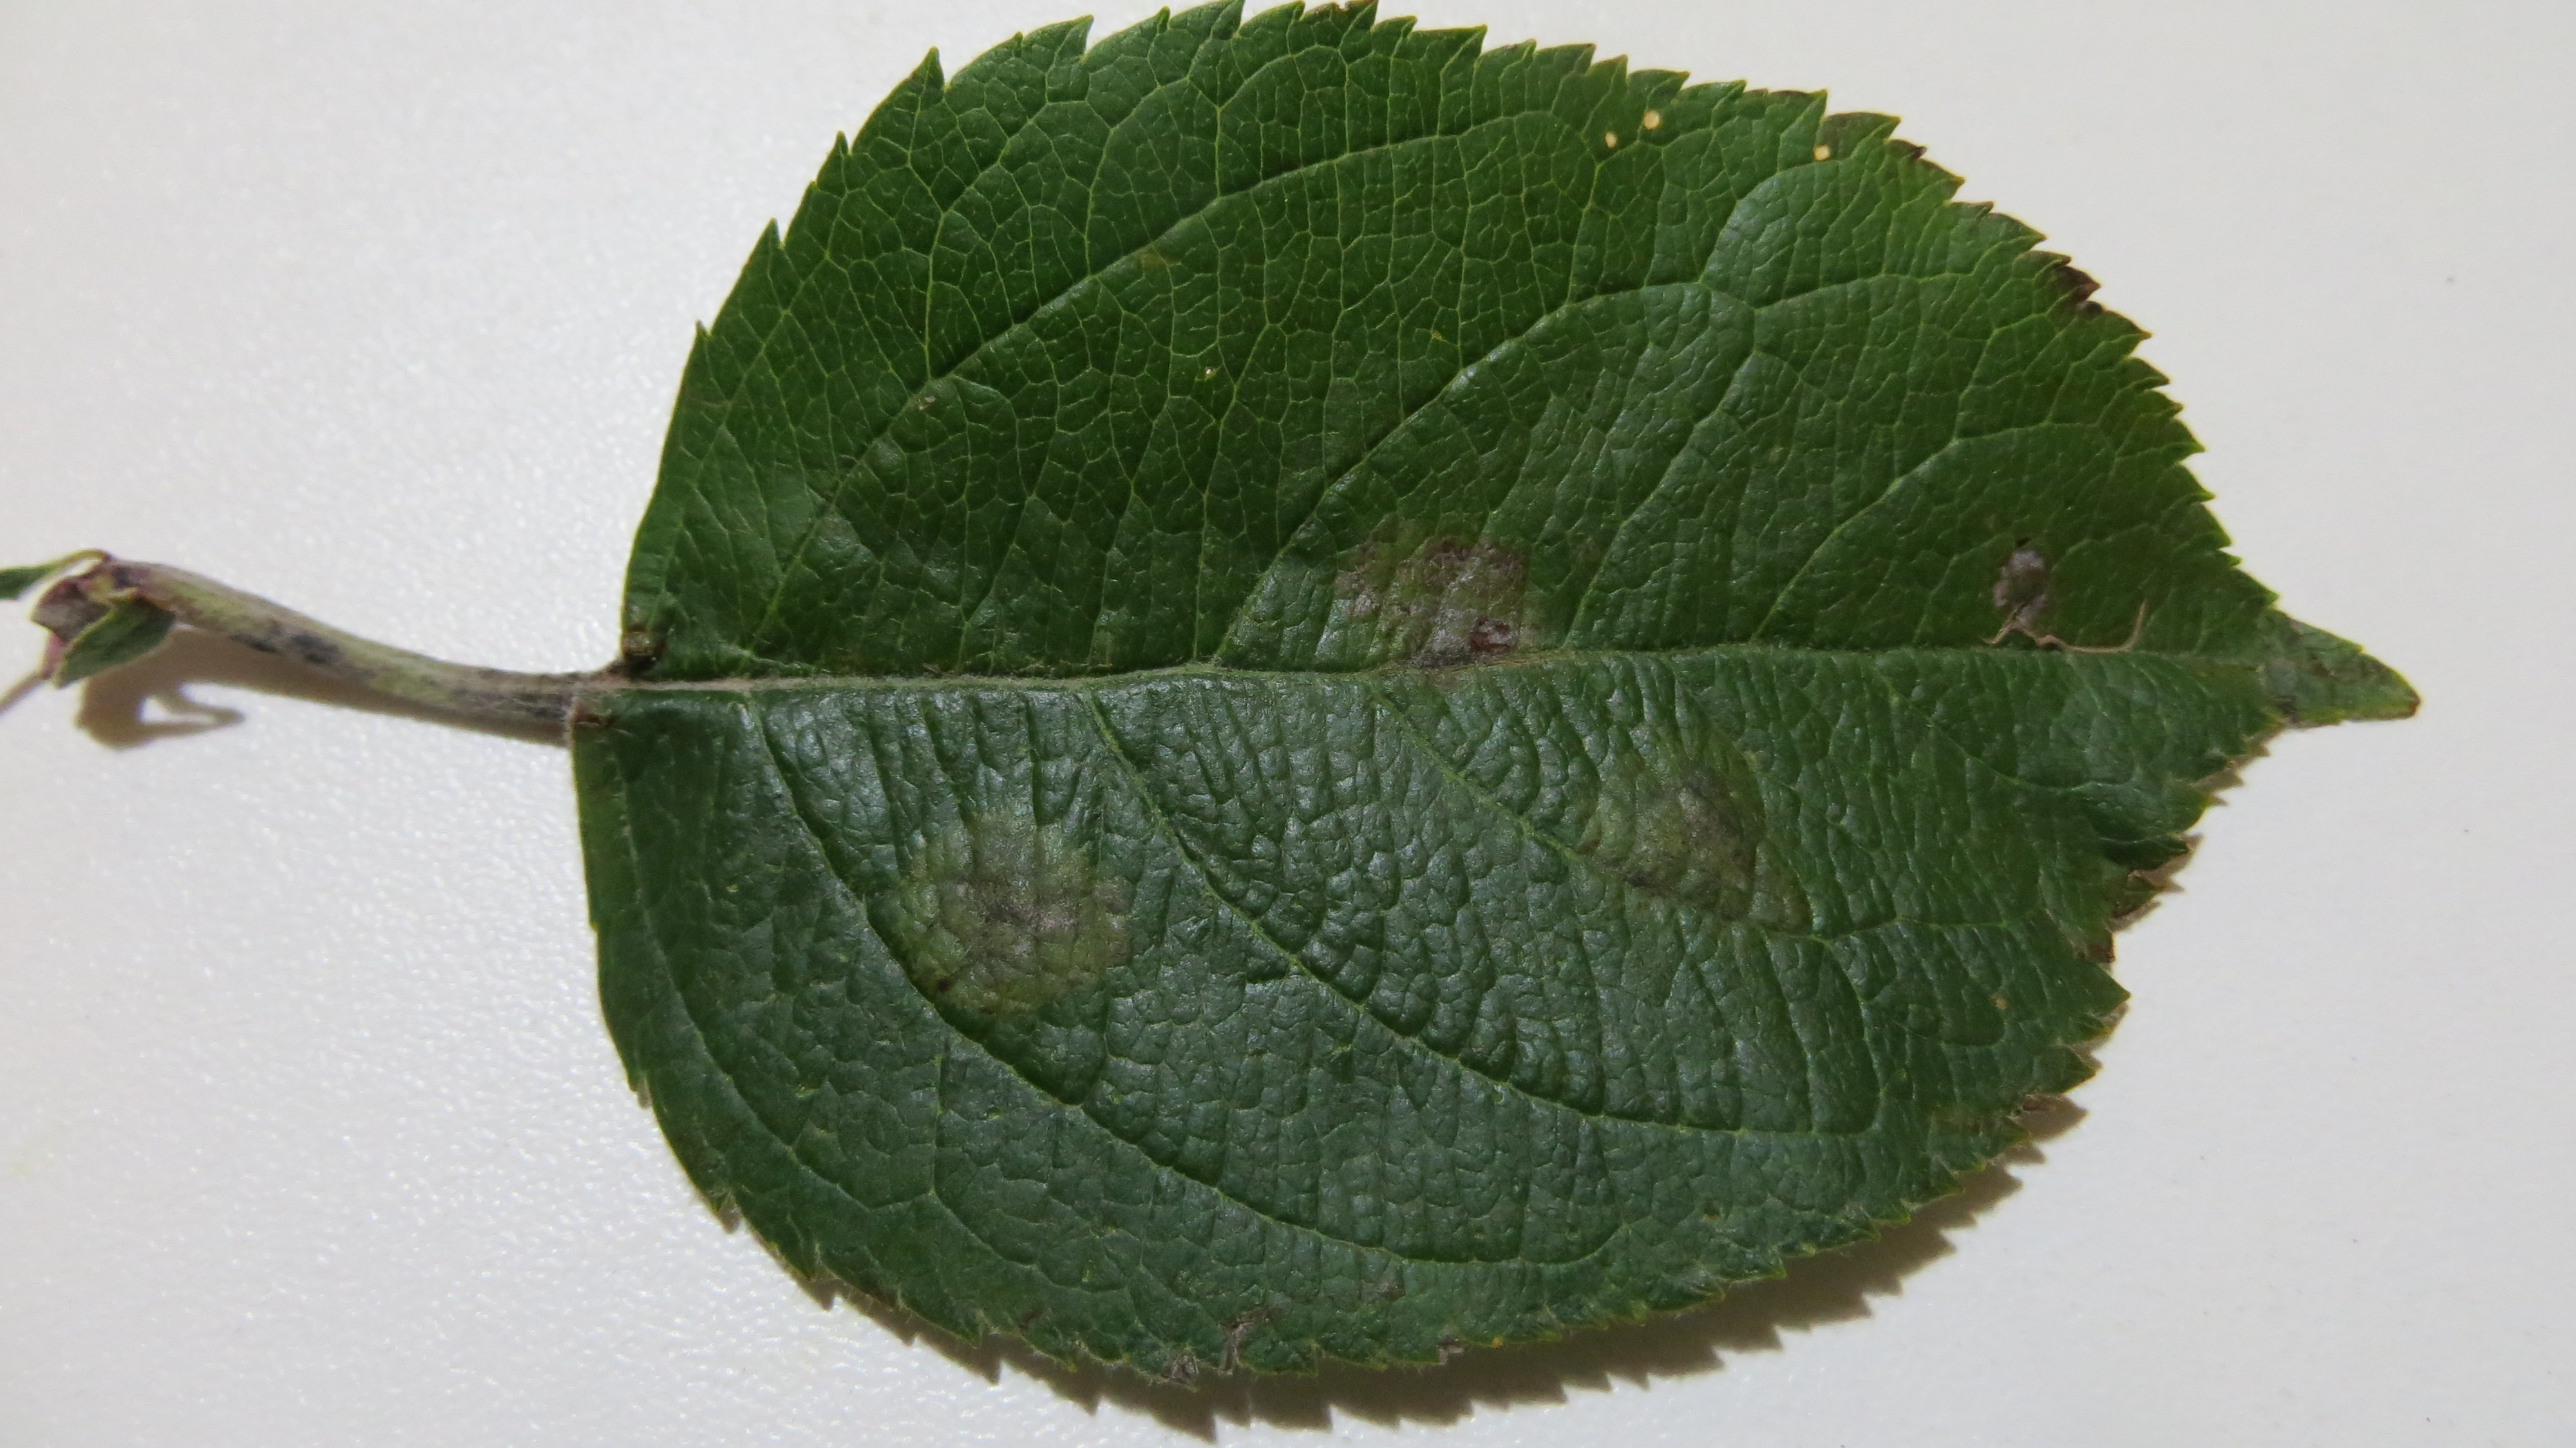sarna: (872, 804, 1139, 1013), (1329, 522, 1582, 696), (1566, 747, 1776, 920), (1989, 529, 2095, 666)
